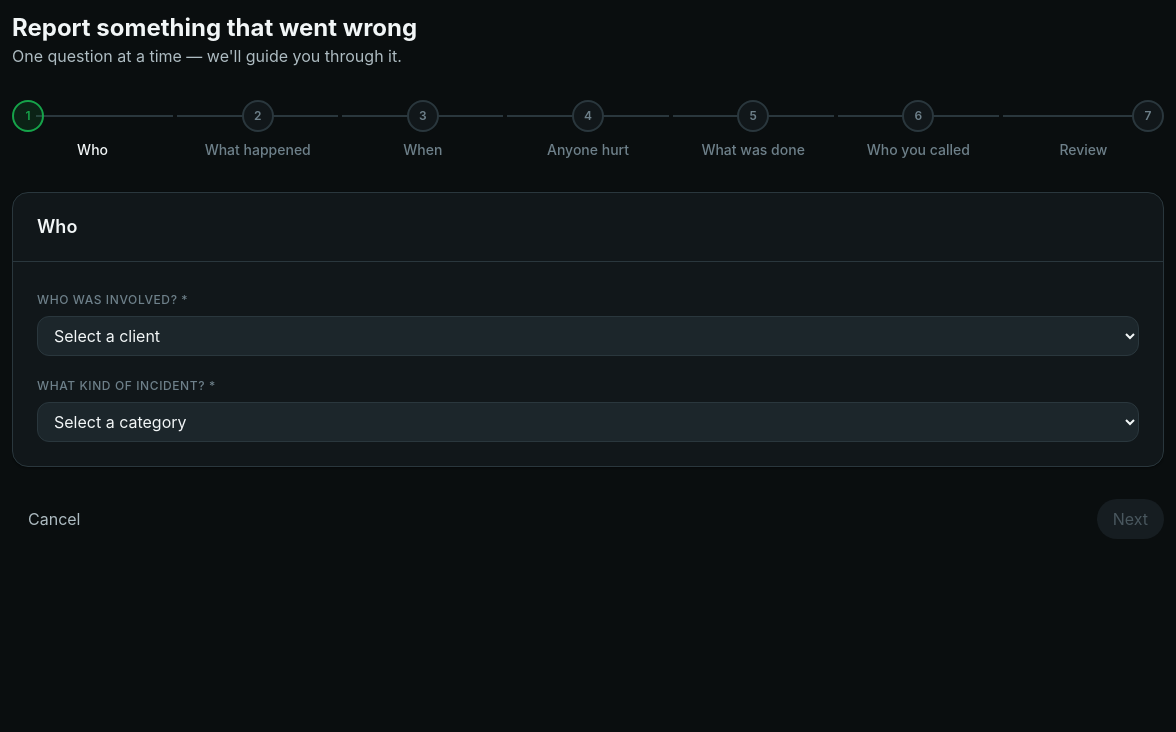
Test case: IncidentFormPage wizard › gates each step on its own required fields
The image size is (1176, 732).
Expected: the button "Next" is disabled, [1097,499,1164,539]
Select "Alex Rivera" in the dropdown named "Who was involved?" at (588, 336), box [37,316,1139,356]
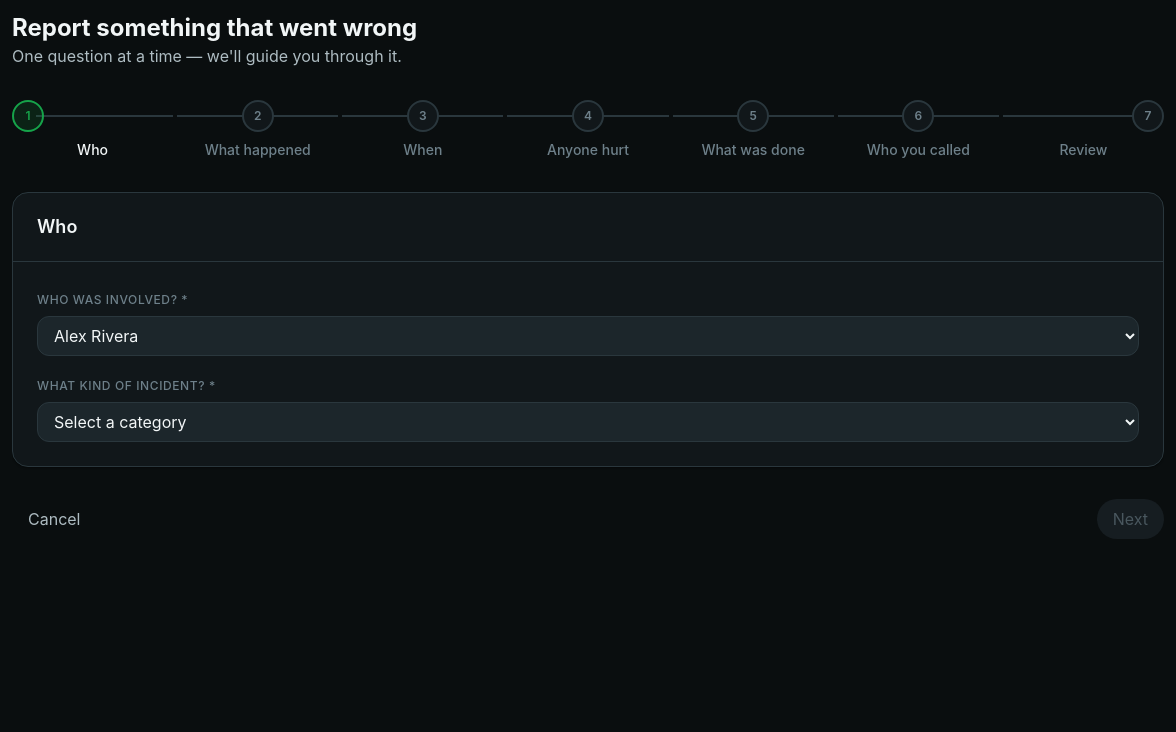
Expected: the button "Next" is disabled, [1097,499,1164,539]
Select "Medication error" in the dropdown named "What kind of incident?" at (588, 422), box [37,402,1139,442]
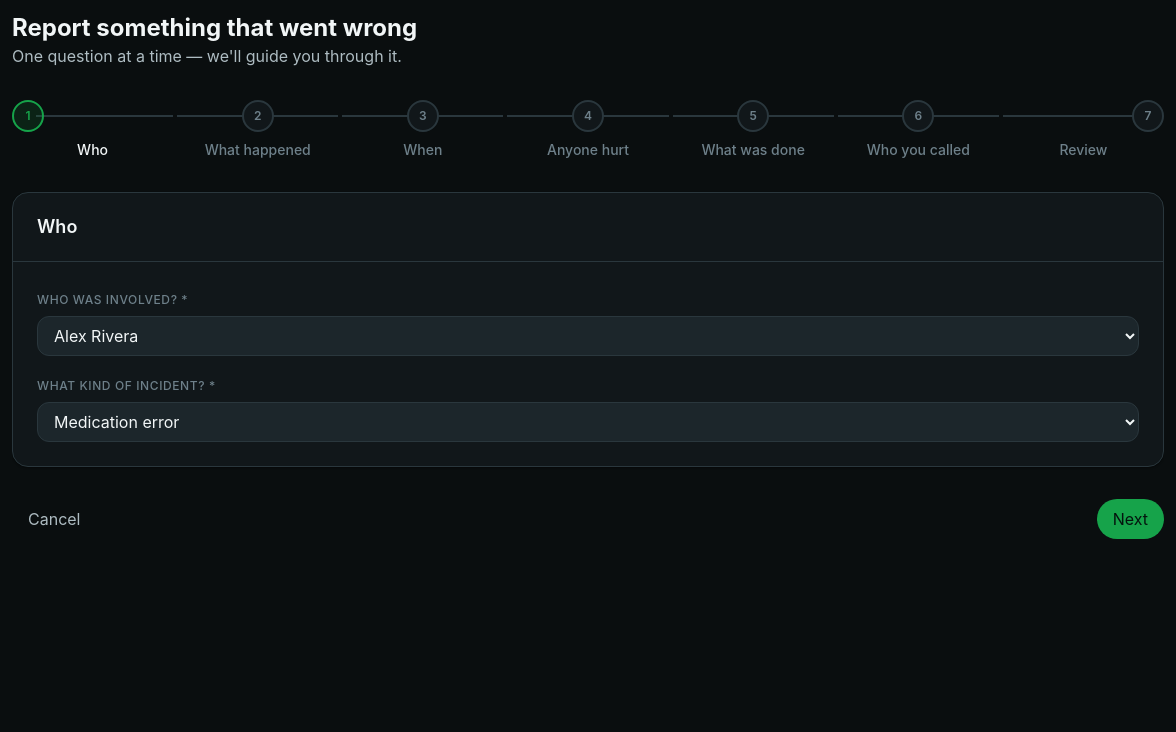
Now the button "Next" is enabled, box [1097,499,1164,539]
